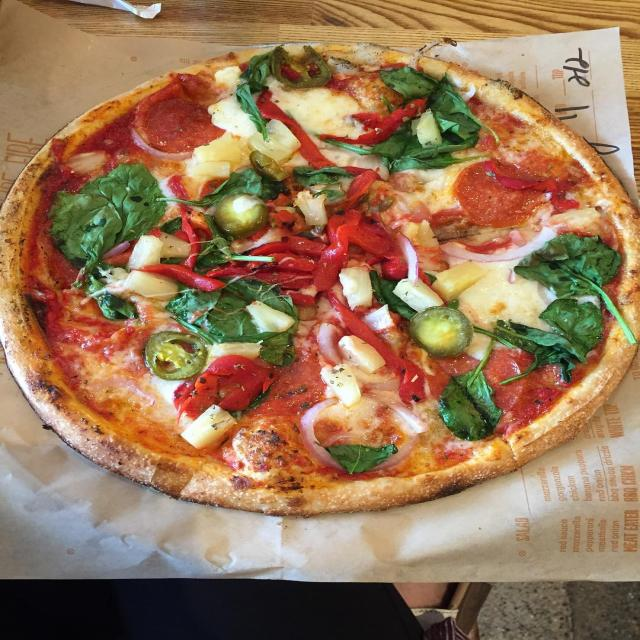pepperoni: (140, 79, 231, 154), (453, 159, 541, 226)
peppers: (329, 291, 430, 405), (252, 88, 336, 169), (222, 237, 321, 294), (317, 210, 389, 281), (327, 100, 423, 148), (197, 361, 271, 412), (174, 190, 214, 264), (143, 261, 225, 294), (332, 168, 369, 204)
pizza: (0, 44, 640, 521)
